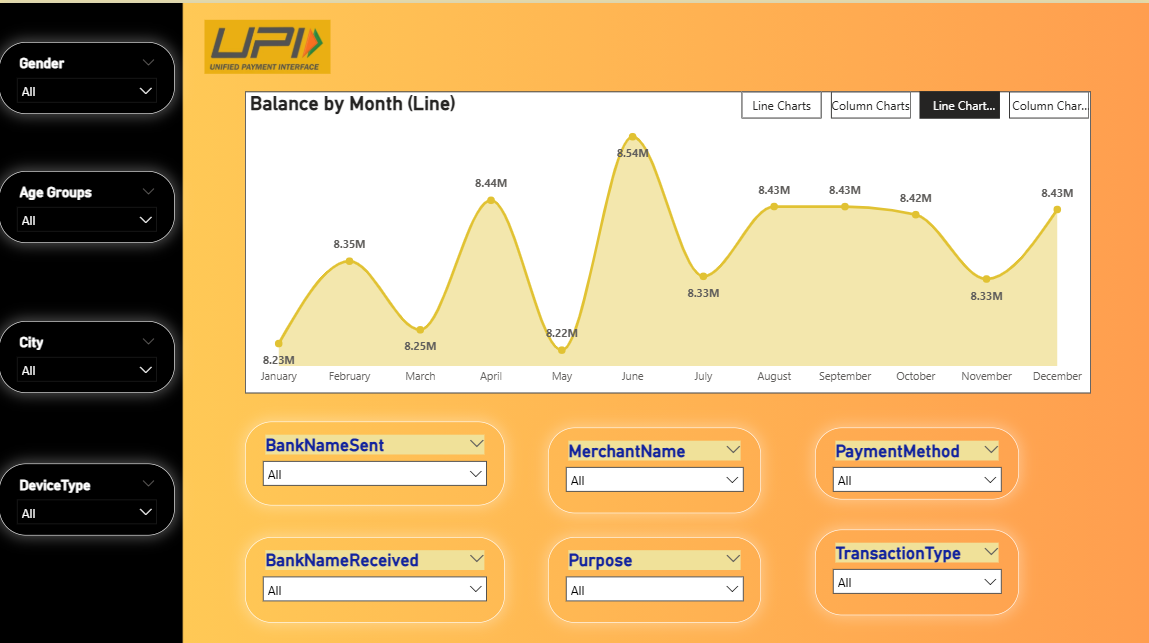

This screenshot's page, from the dashboard's own definition file:
{"tool":"powerbi","page":{"name":"Interactive Chart Selector","canvas":[1280,720],"ordinal":0},"visuals":[{"type":"slicer","fields":{"Values":["UPI Transaction.BankNameSent"]},"box":[273.3,465,288.3,93.3],"z":0},{"type":"slicer","fields":{"Values":["UPI Transaction.BankNameReceived"]},"box":[273.3,593.3,288.3,95],"z":1000},{"type":"slicer","fields":{"Values":["UPI Transaction.City"]},"box":[0,353.3,195,80],"z":2000},{"type":"slicer","fields":{"Values":["UPI Transaction.DeviceType"]},"box":[0,511.7,195,80],"z":3000},{"type":"slicer","fields":{"Values":["UPI Transaction.Gender"]},"box":[0,43.3,195,80],"z":4000},{"type":"slicer","fields":{"Values":["UPI Transaction.Age Groups"]},"box":[0,186.7,195,80],"z":5000},{"type":"slicer","fields":{"Values":["UPI Transaction.MerchantName"]},"box":[610,471.7,236.7,95],"z":6000},{"type":"slicer","fields":{"Values":["UPI Transaction.PaymentMethod"]},"box":[906.7,471.7,226.7,80],"z":7000},{"type":"slicer","fields":{"Values":["UPI Transaction.Purpose"]},"box":[610,593.3,236.7,95],"z":8000},{"type":"slicer","fields":{"Values":["UPI Transaction.TransactionType"]},"box":[906.7,585,226.7,95],"z":9000},{"type":"lineChart","title":"Balance by Month (Line)","fields":{"Category":["UPI Transaction.TransactionDate.Variation.Date Hierarchy.Month"],"Y":["Sum(UPI Transaction.RemainingBalance)"]},"box":[273.3,98.3,940,335],"z":11000},{"type":"bookmarkNavigator","box":[825,98.3,388.3,30],"z":14000},{"type":"image","box":[218.3,13.3,160,70],"z":15000}]}

Visuals, with their boxes in screenshot pixels (x1, y1, x2, y2), scaled from the page's 1280x720 canvas onto the 1149x643 screenshot:
slicer - UPI Transaction.BankNameSent: l=245, t=415, r=504, b=499
slicer - UPI Transaction.BankNameReceived: l=245, t=530, r=504, b=615
slicer - UPI Transaction.City: l=0, t=316, r=175, b=387
slicer - UPI Transaction.DeviceType: l=0, t=457, r=175, b=528
slicer - UPI Transaction.Gender: l=0, t=39, r=175, b=110
slicer - UPI Transaction.Age Groups: l=0, t=167, r=175, b=238
slicer - UPI Transaction.MerchantName: l=548, t=421, r=760, b=506
slicer - UPI Transaction.PaymentMethod: l=814, t=421, r=1017, b=493
slicer - UPI Transaction.Purpose: l=548, t=530, r=760, b=615
slicer - UPI Transaction.TransactionType: l=814, t=522, r=1017, b=607
"Balance by Month (Line)" lineChart: l=245, t=88, r=1089, b=387
bookmarkNavigator: l=741, t=88, r=1089, b=115
image: l=196, t=12, r=340, b=74
